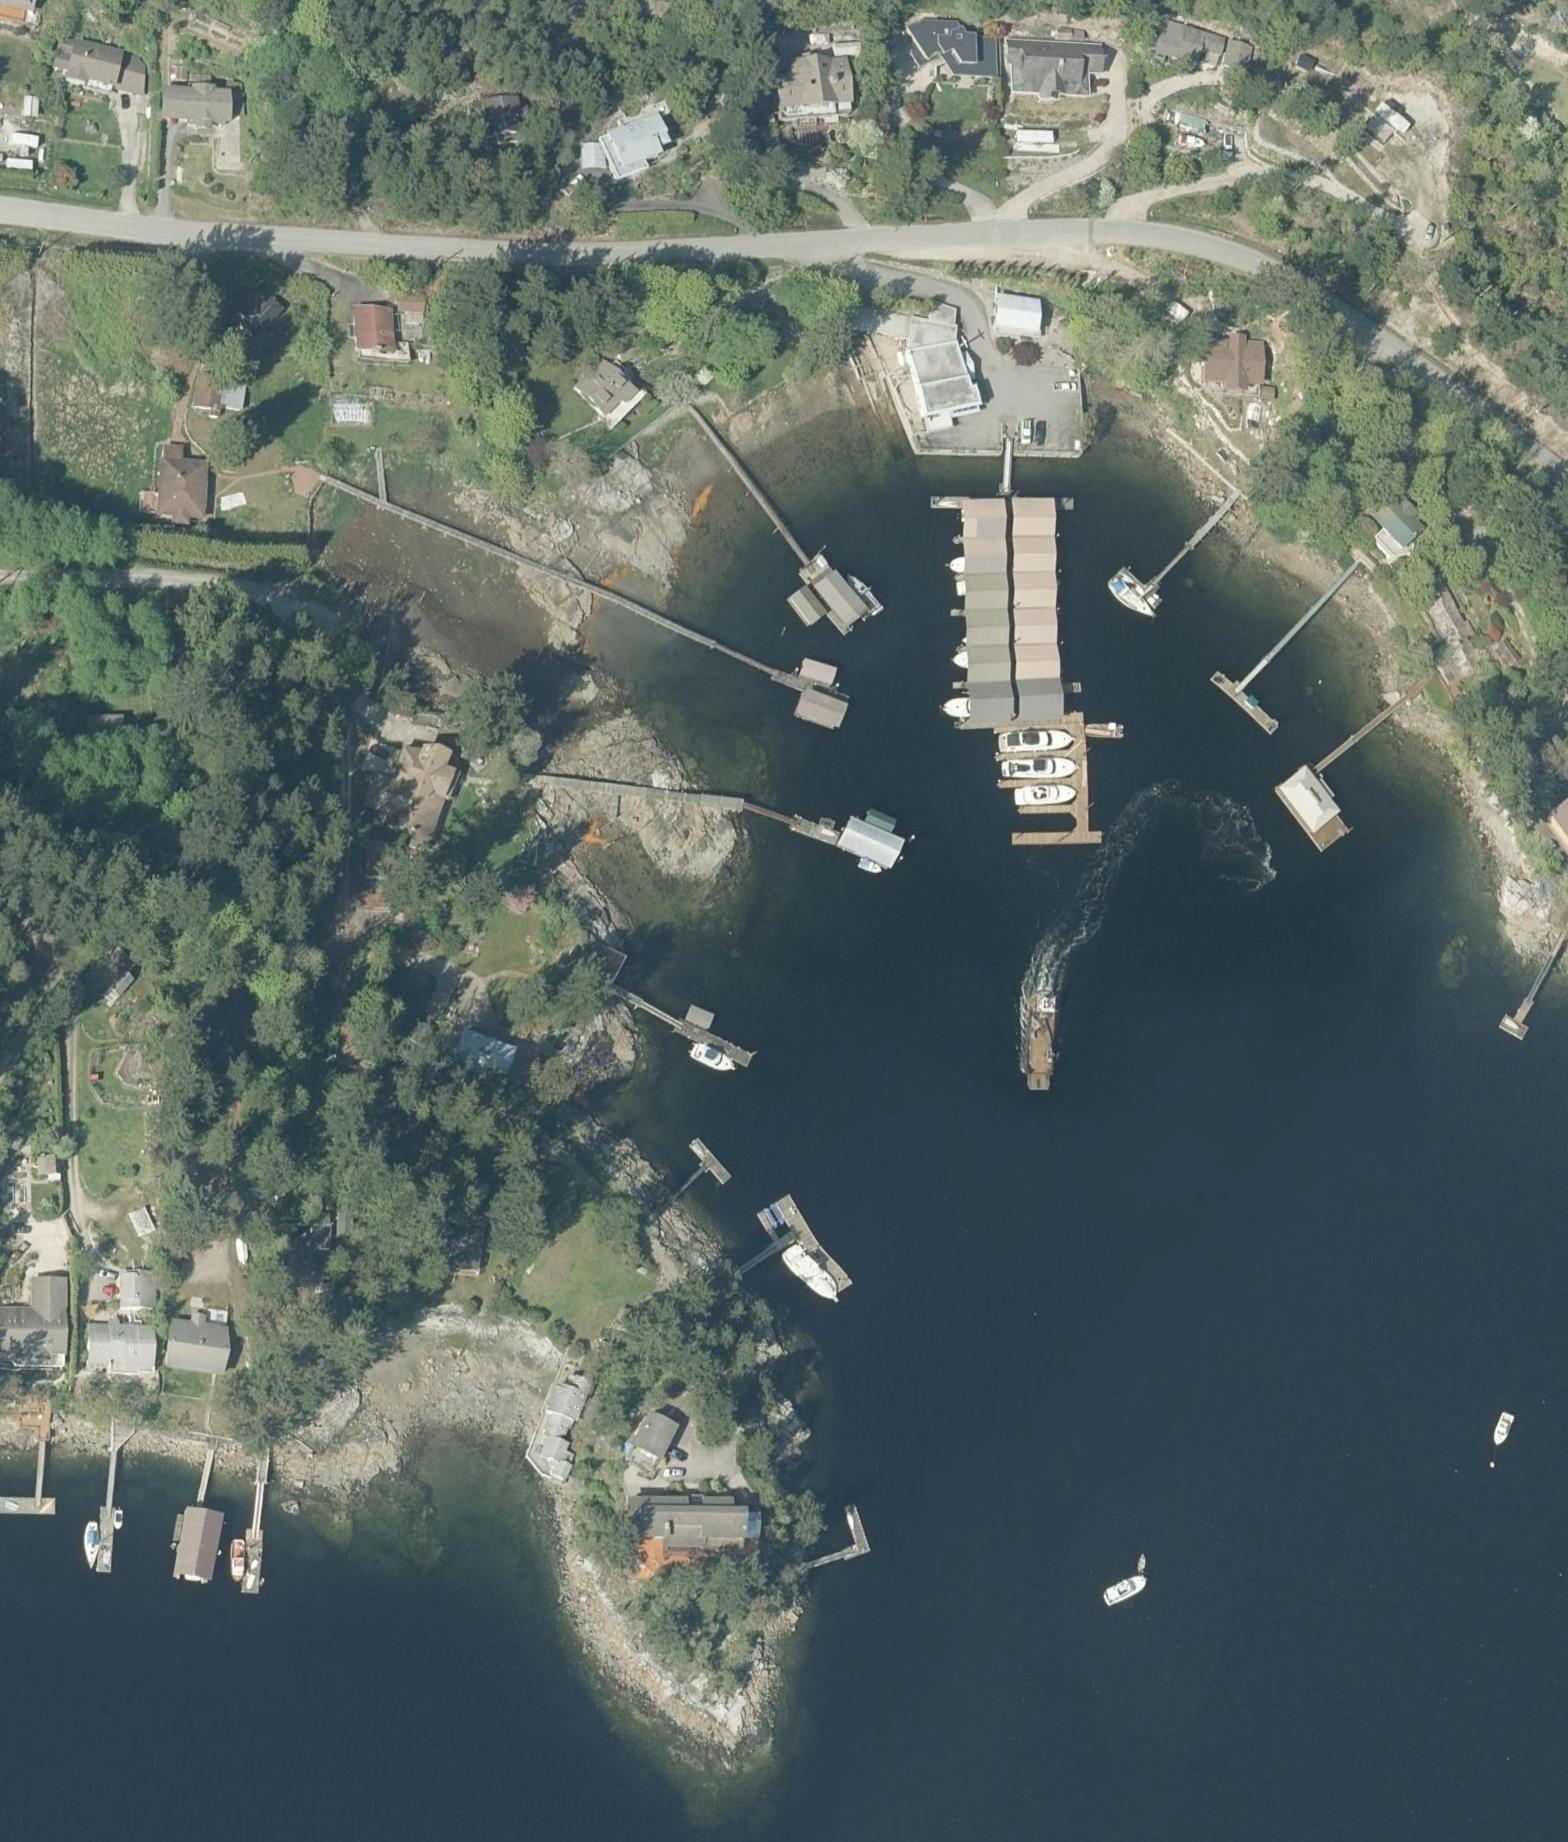harbor: (949, 506, 1101, 846), (582, 565, 862, 734), (683, 415, 871, 650), (1210, 554, 1388, 736), (1272, 702, 1437, 856), (1115, 471, 1254, 610), (717, 1193, 856, 1325), (745, 765, 912, 873), (618, 972, 765, 1070), (171, 1458, 233, 1587), (1496, 944, 1566, 1042), (789, 1501, 873, 1574), (656, 1136, 733, 1212), (2, 1427, 61, 1515), (241, 1469, 271, 1595), (96, 1453, 121, 1573)
ship: (776, 1238, 846, 1311), (1025, 989, 1061, 1095), (1101, 571, 1160, 624), (840, 569, 887, 619), (999, 728, 1076, 755), (1000, 756, 1081, 781), (688, 1041, 740, 1078), (1100, 1571, 1151, 1609), (954, 650, 1016, 674), (940, 697, 1002, 720), (1013, 786, 1080, 806), (1489, 1408, 1518, 1448), (941, 557, 1003, 574), (82, 1520, 100, 1570), (230, 1539, 247, 1582), (1086, 722, 1125, 741), (856, 856, 887, 876), (1174, 132, 1209, 149), (233, 1237, 250, 1266), (1136, 1553, 1150, 1574), (114, 1511, 124, 1529)
